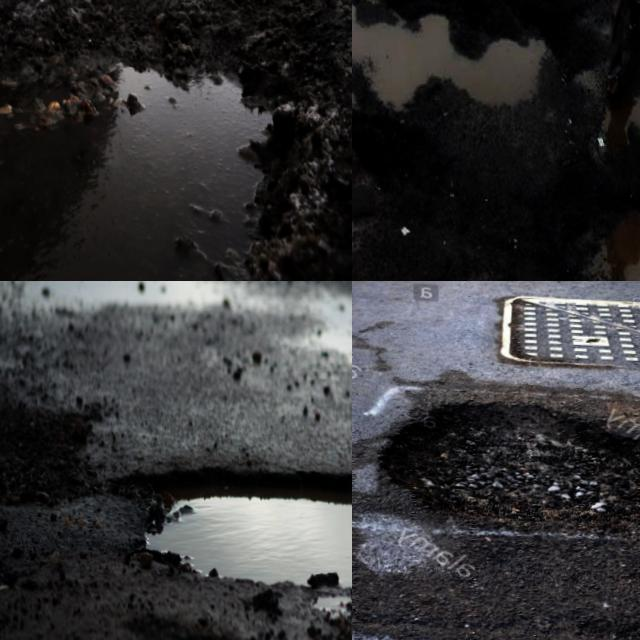Potholes: (0, 0, 325, 281), (352, 349, 640, 572), (97, 401, 352, 640), (352, 0, 583, 130), (431, 206, 554, 281), (570, 183, 640, 281), (593, 41, 640, 185), (352, 159, 393, 281)
